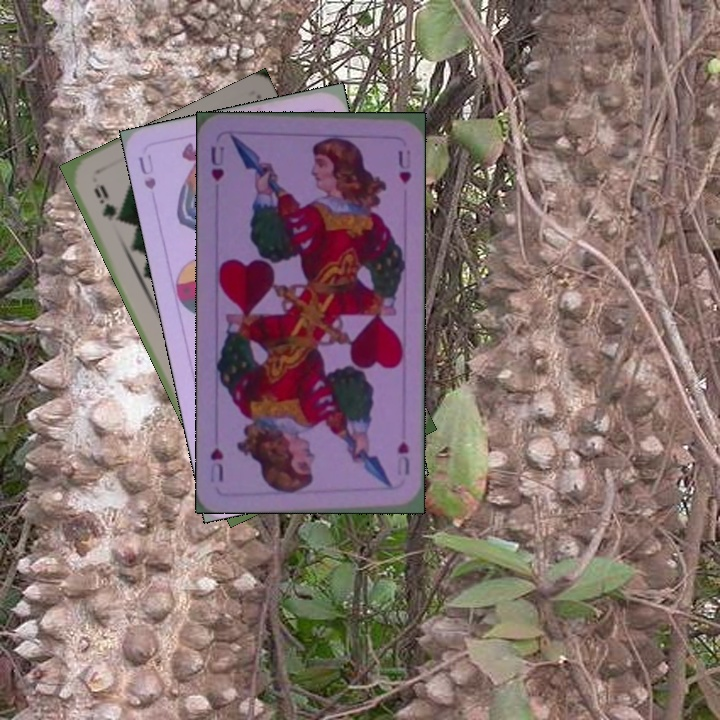G9: (89, 180, 123, 226)
HU: (207, 142, 227, 184), (393, 437, 412, 478)
SU: (134, 150, 159, 192)
